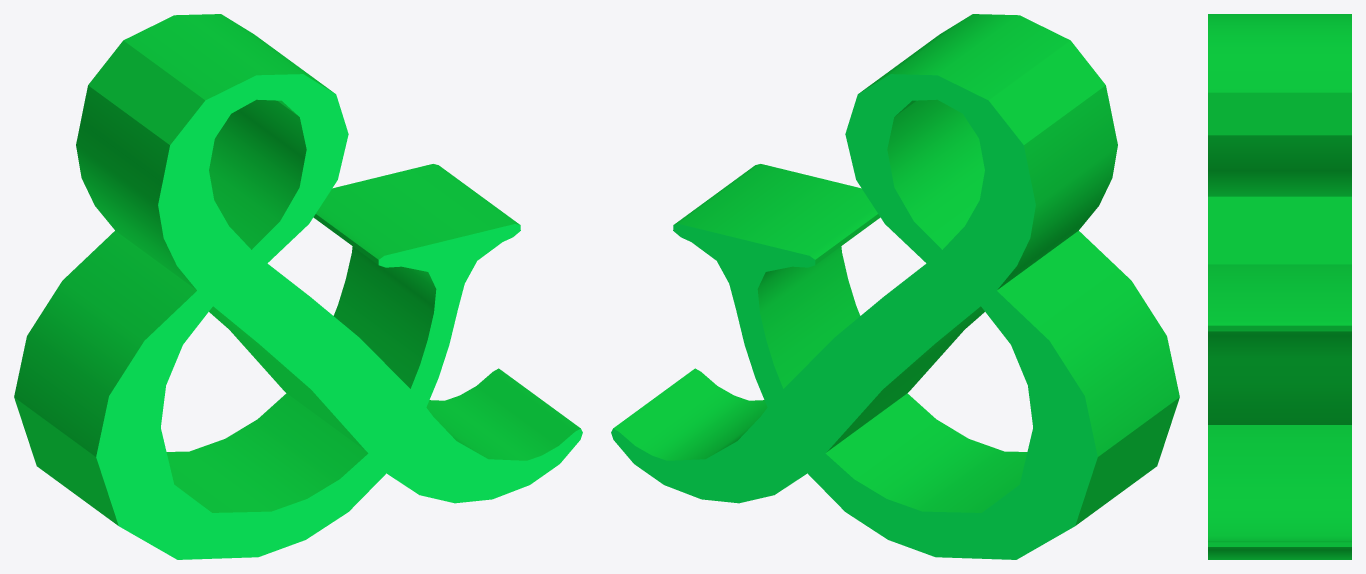
File: fbbda319-997a-489c-9290-e2ad4e61605d.glb
The picture shows the model from 3 angles, left to right: view 1: azimuth 30°, elevation 25°; view 2: azimuth 150°, elevation 25°; view 3: azimuth 270°, elevation 25°; orthographic projection. The views are drawn at different scales.
Visible parts, largest first — view 1: &_Soul_Green; view 2: &_Soul_Green; view 3: &_Soul_Green.
Part boxes in pixels (bbox=[...]): &_Soul_Green: bbox=[14, 14, 582, 559]; &_Soul_Green: bbox=[611, 14, 1179, 559]; &_Soul_Green: bbox=[1208, 14, 1351, 559].
Size of what is drawn, in the model's own units: 0.1541 by 0.1459 by 0.045.
2 materials, 2 textured.
